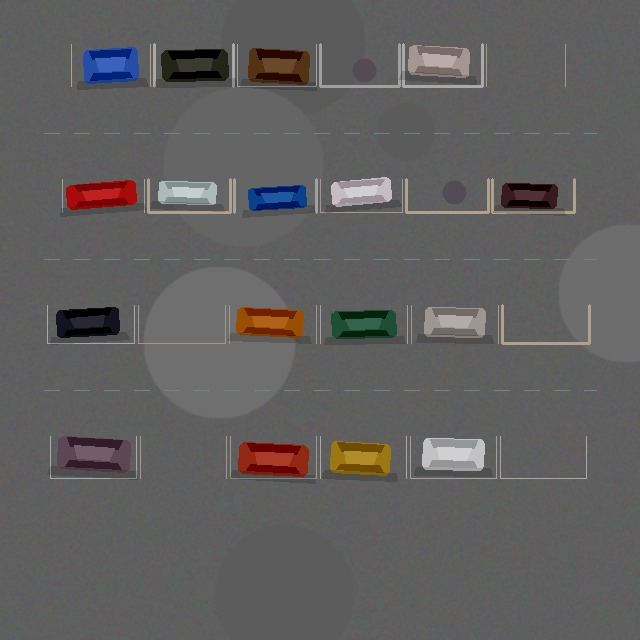space-empty: (140, 436, 226, 478), (500, 436, 586, 478), (320, 44, 399, 86), (486, 44, 565, 86), (138, 305, 225, 343), (502, 305, 589, 343), (406, 179, 488, 212)
space-occupied: (50, 436, 136, 478), (230, 436, 316, 478), (320, 436, 406, 478), (410, 436, 496, 478), (71, 44, 150, 86), (154, 44, 233, 86), (237, 44, 316, 86), (403, 44, 482, 86), (47, 305, 134, 343), (229, 305, 316, 343), (320, 305, 407, 343), (411, 305, 498, 343), (62, 179, 144, 212), (148, 179, 230, 212), (234, 179, 316, 212), (320, 179, 402, 212), (492, 179, 574, 212)
